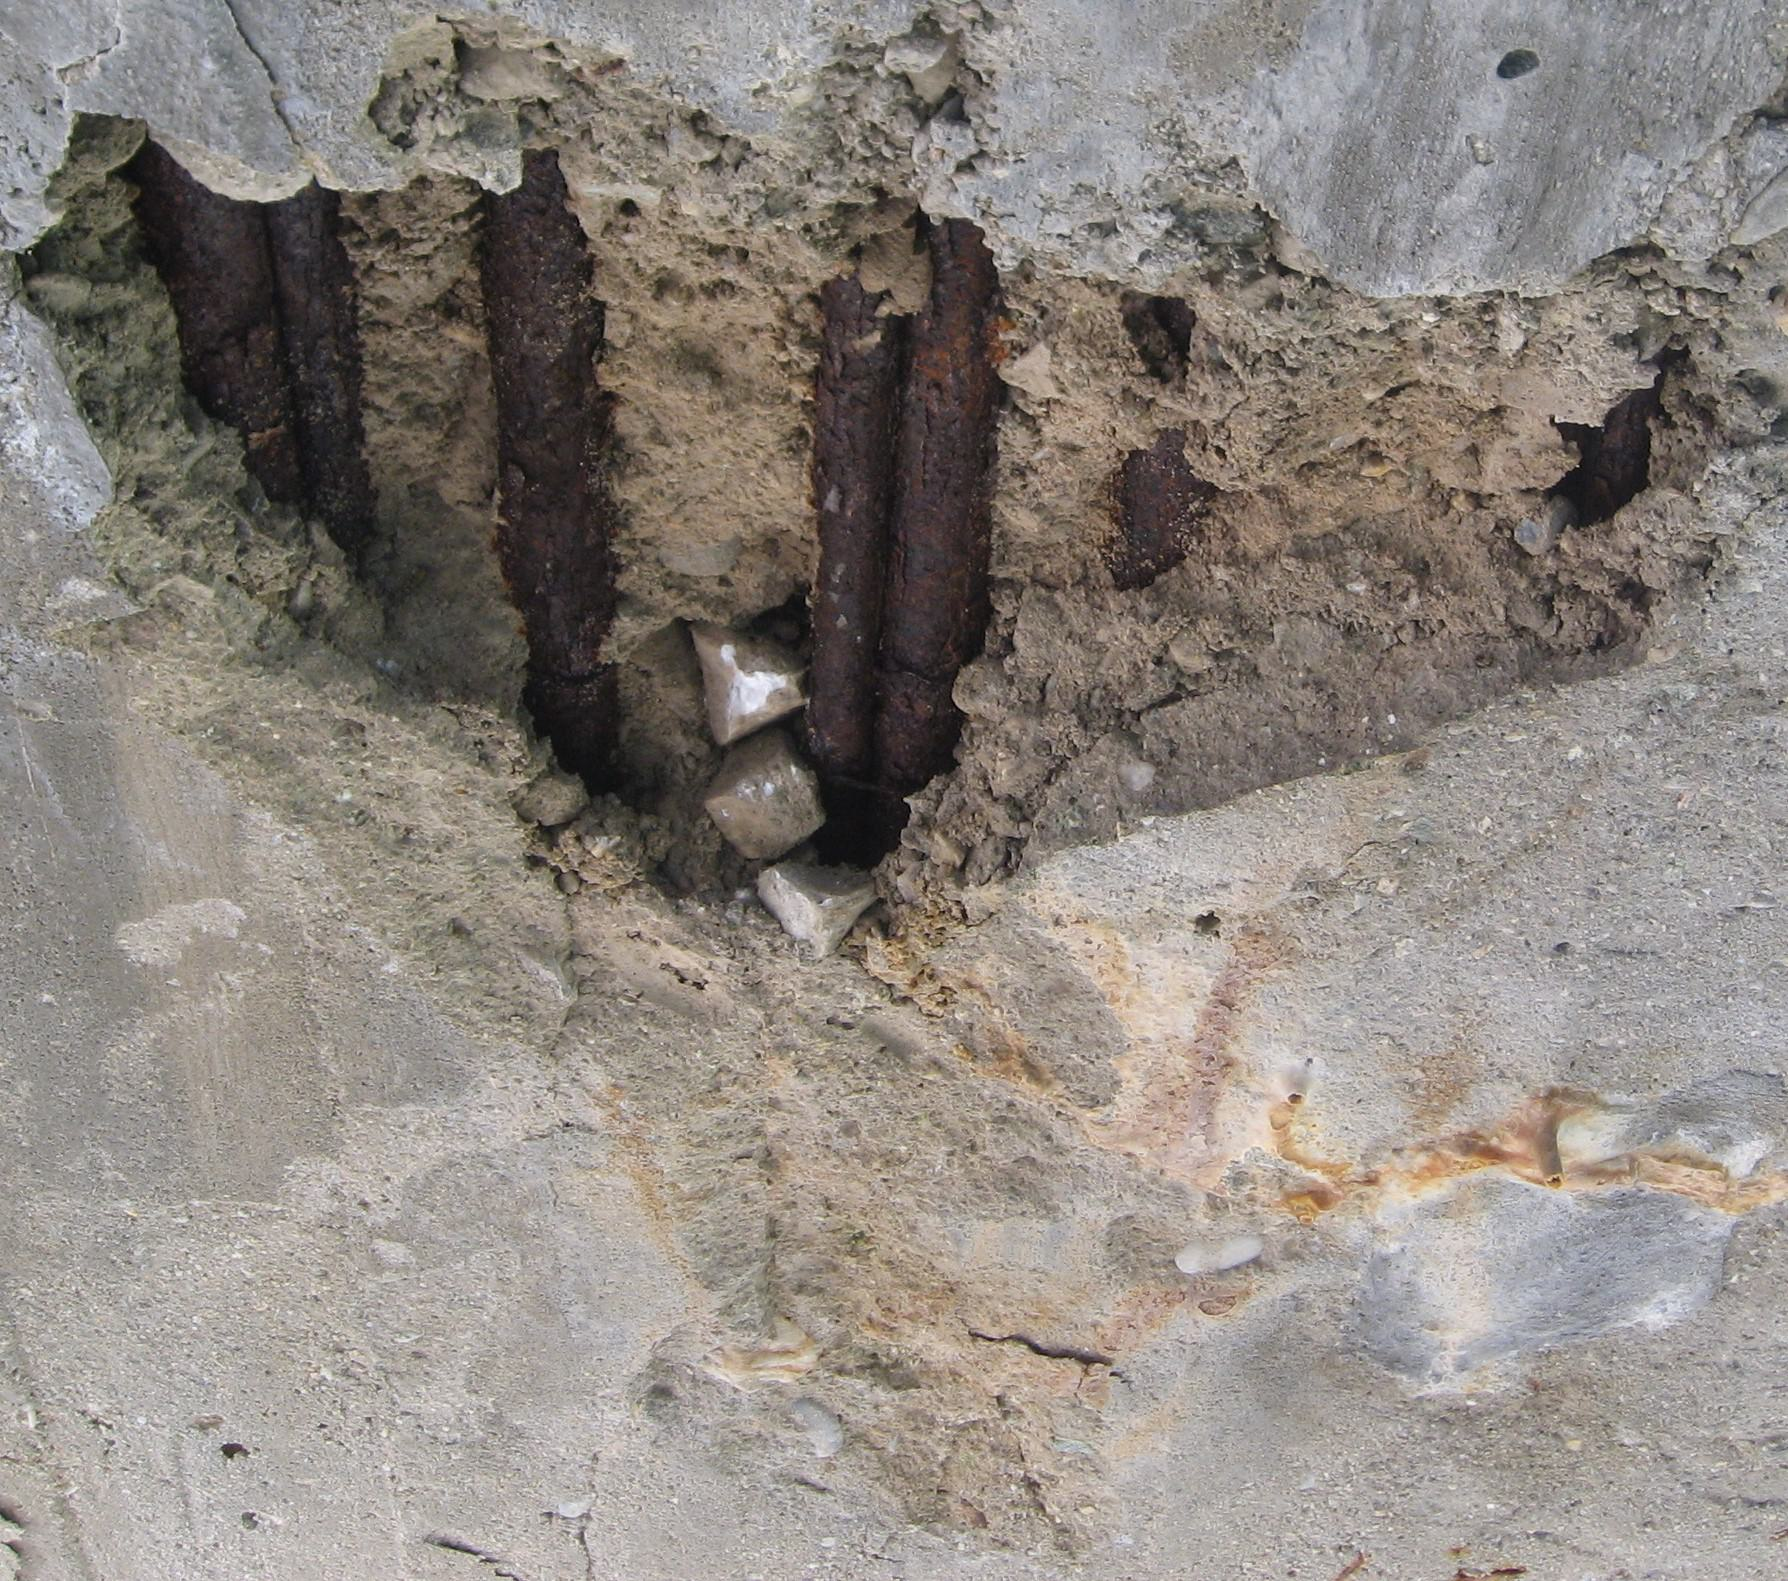Exposed reinforcement: (478, 148, 630, 784), (873, 218, 999, 794), (151, 142, 304, 505), (810, 275, 899, 784), (267, 177, 378, 568), (1115, 288, 1190, 578), (1588, 386, 1648, 530)
Spalling: (2, 2, 1788, 955)
